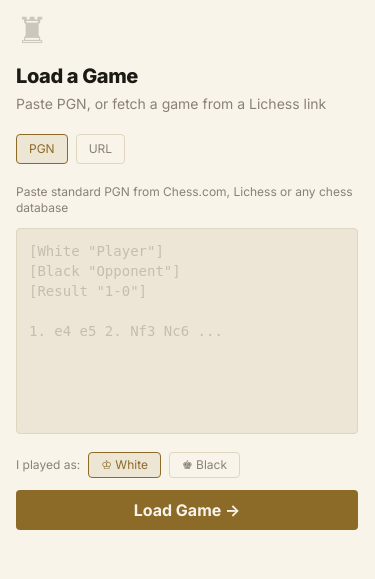
it: GameReviewPage › requires a PGN before loading
Click the button "Load Game →" at (187, 510), box [16,490,358,530]
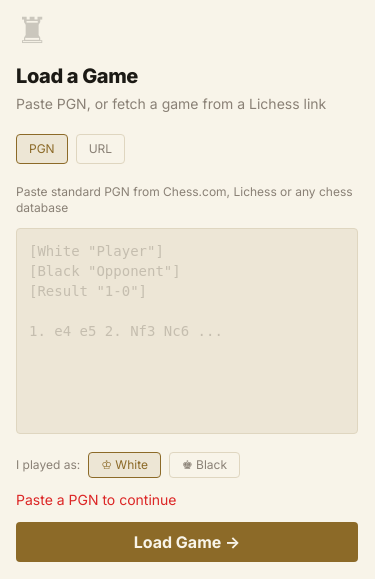
Check: the text "Paste a PGN to continue" is shown, box [16,491,176,508]
